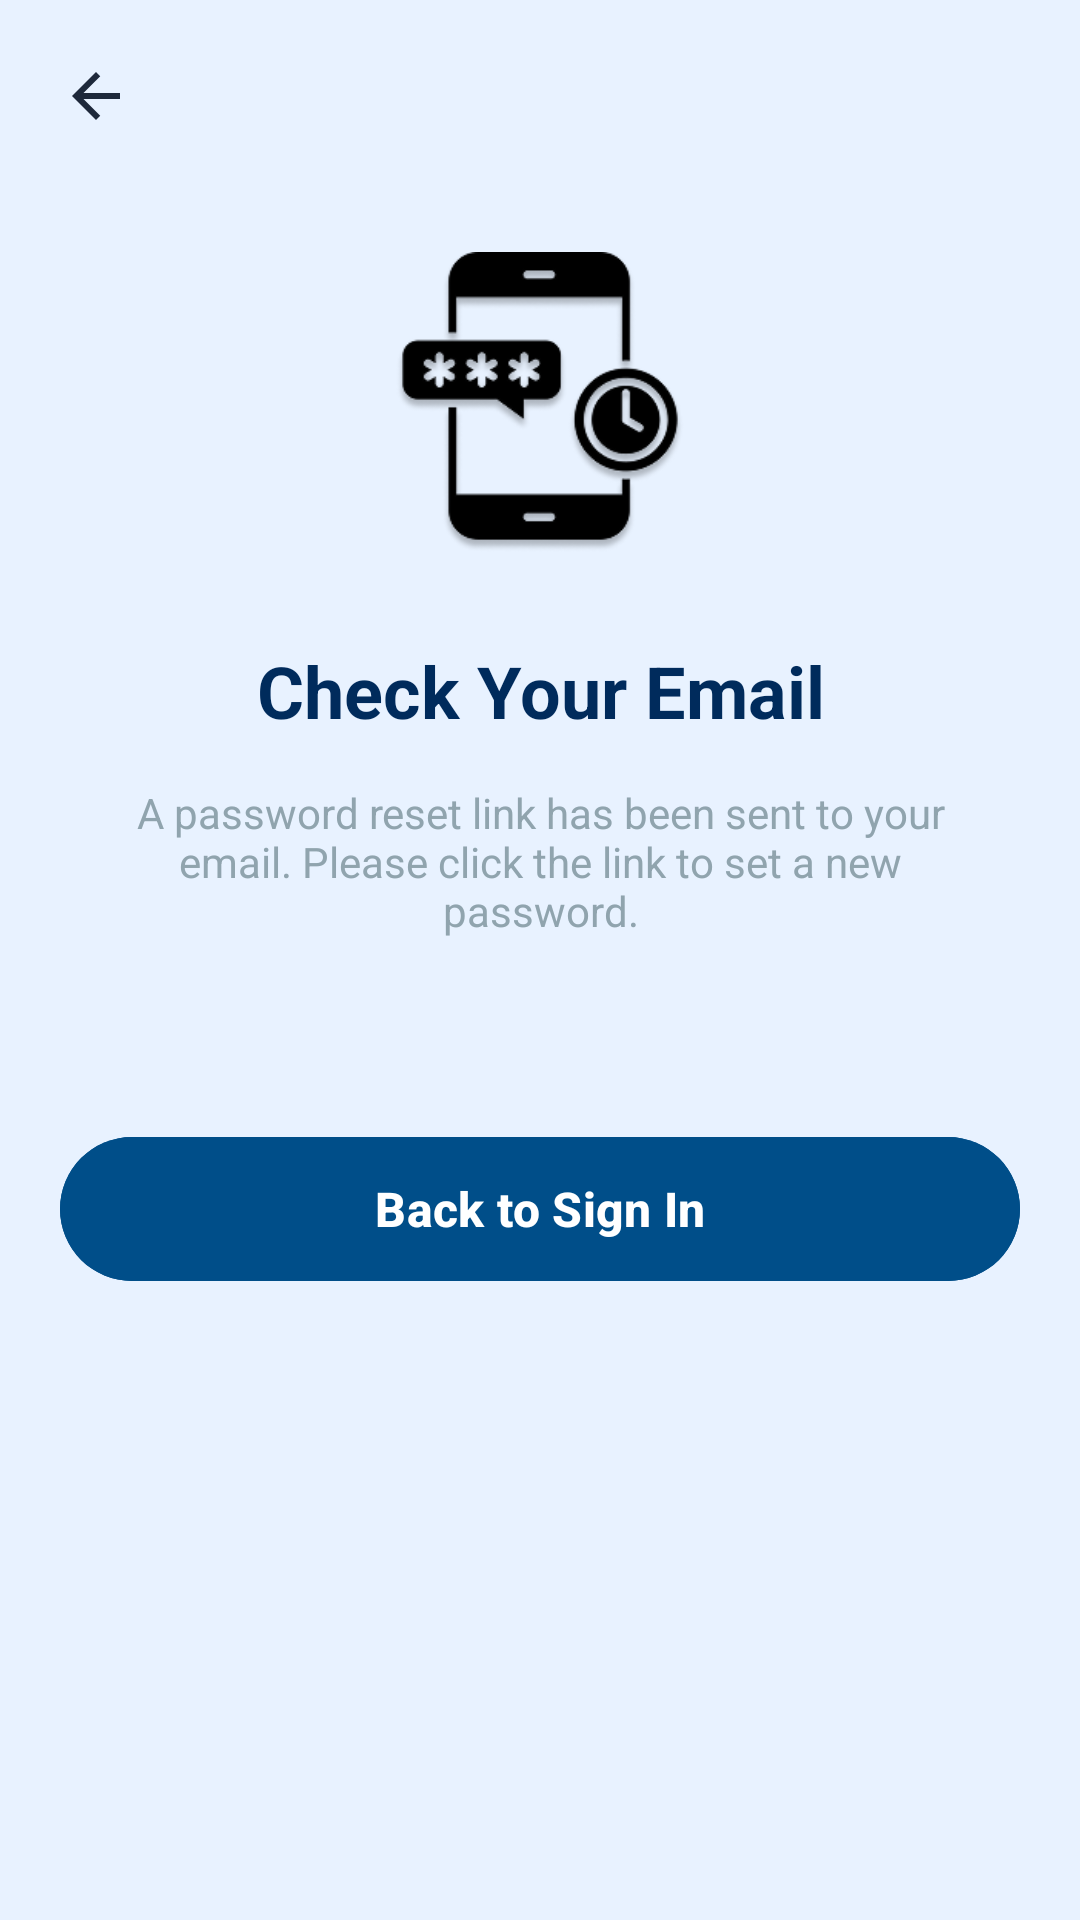

Icon bounding boxes for this 1080 x 1920 phone screenshot, format Rect(x1, y1, x2, y2):
Back: Rect(72, 72, 120, 120)
